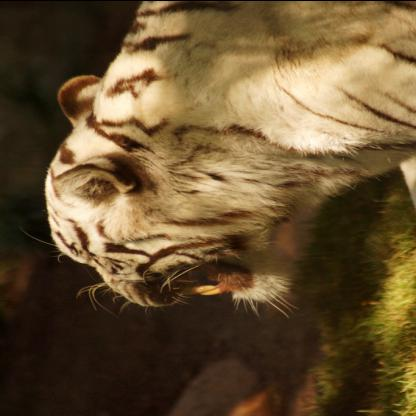tiger: (35, 135, 317, 319)
